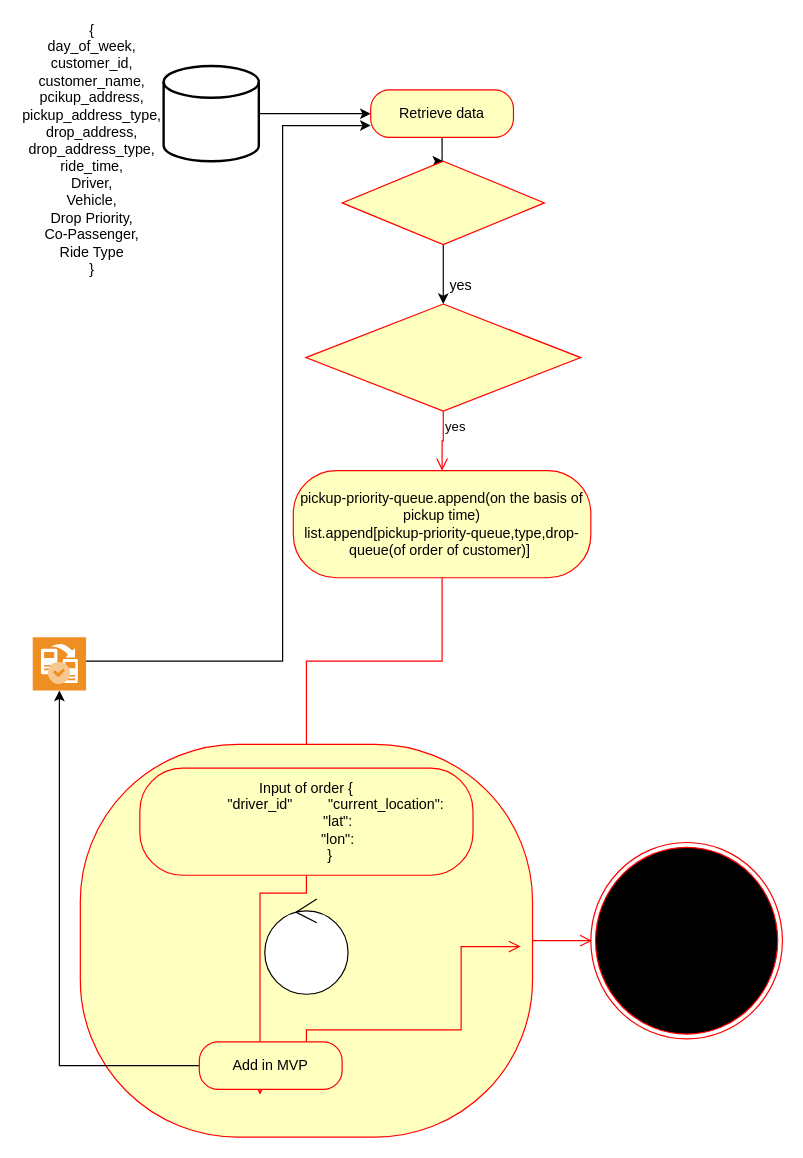
The diagram is 803 pixels wide and 1158 high, and some of its shapes have lost their labels. Each missing label, with the centre of its shape:
dist(drop1,drop2) <= 500m: [442,202]
Iterate through all: [306,946]
pickup_time(drop1, drop2)<=20min: [443,357]
